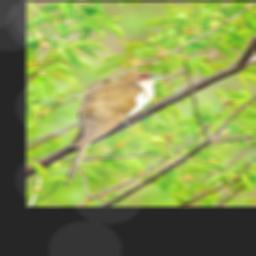Cuckoo: (64, 69, 168, 189)
